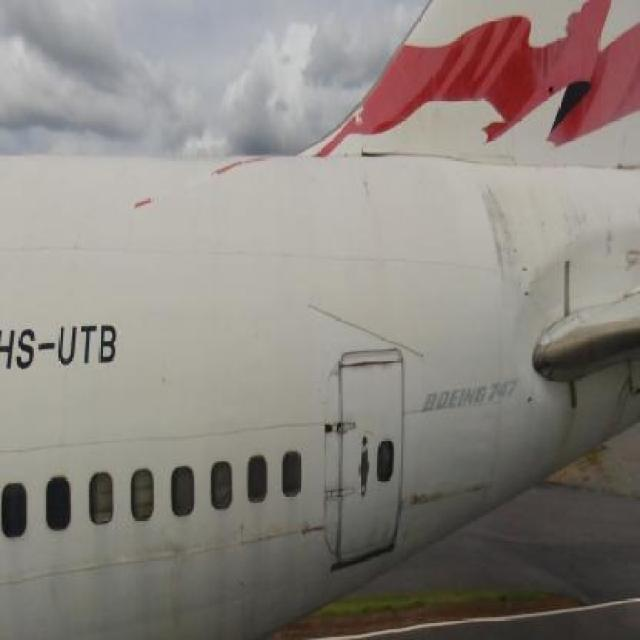Rust: (557, 180, 640, 275), (478, 175, 524, 293), (404, 479, 505, 510), (606, 357, 634, 441), (338, 349, 404, 382), (559, 382, 583, 462)
Scartch: (157, 524, 191, 618), (285, 514, 324, 552)
